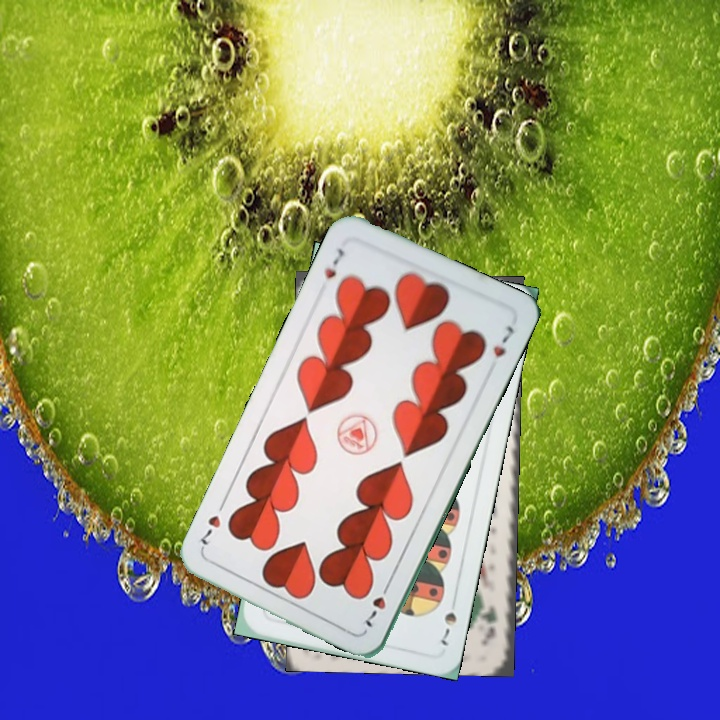GK: (480, 602, 500, 641)
H7: (358, 577, 393, 630), (319, 244, 347, 282)
S7: (436, 608, 460, 648)
